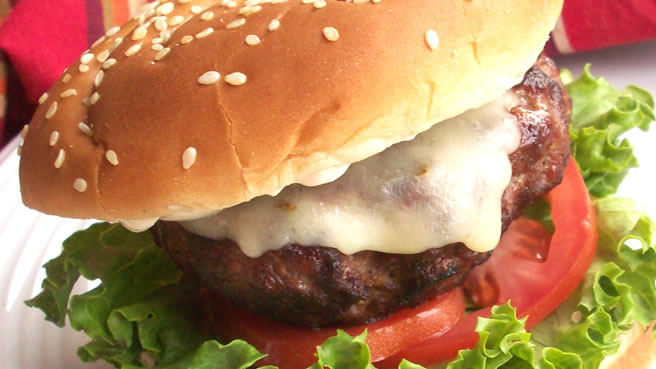hamburger: (23, 10, 601, 369)
